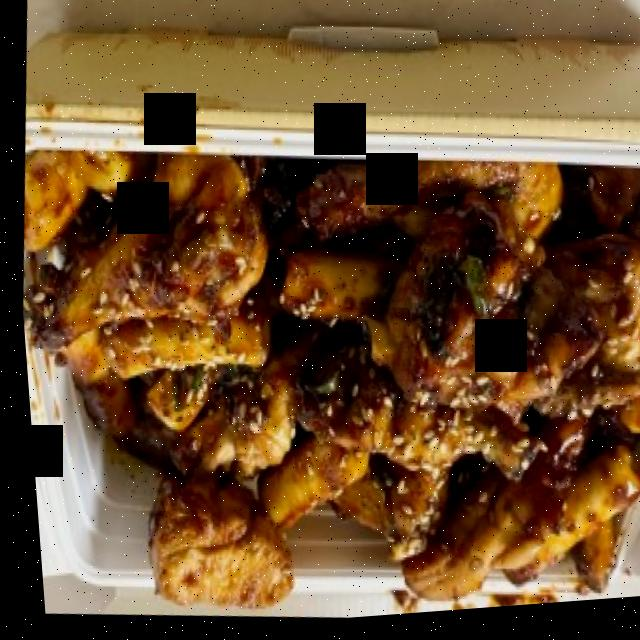Frango: (8, 97, 640, 640)
